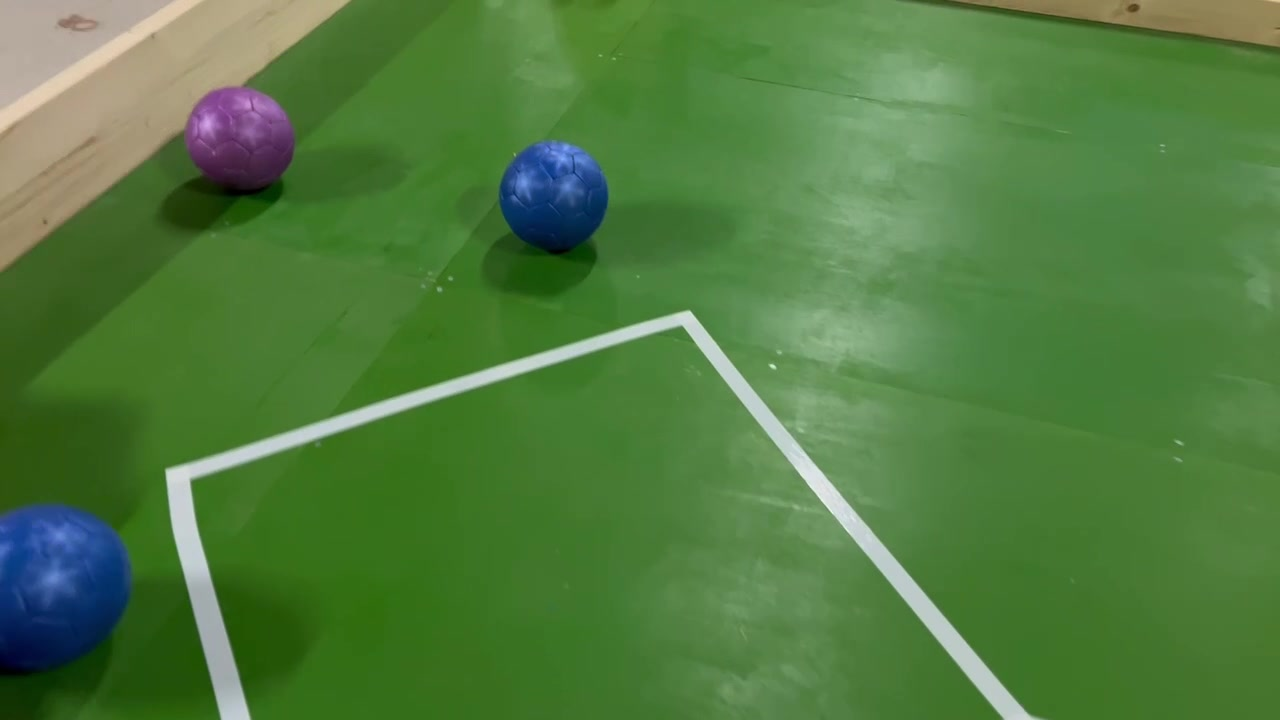blue: (2, 494, 121, 678), (497, 132, 613, 255)
